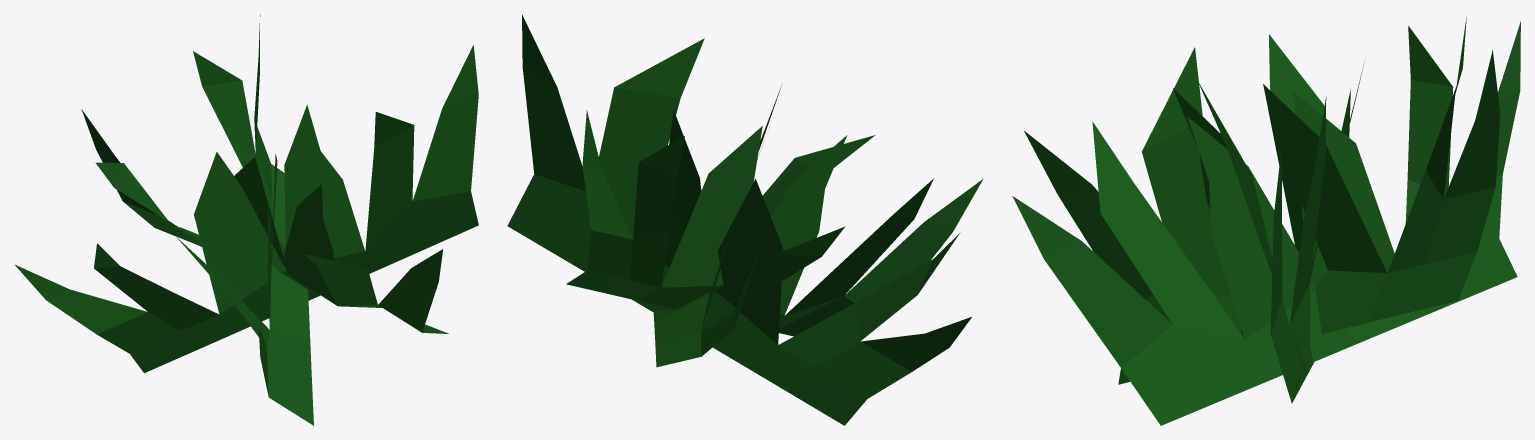
Rendered from grass.fbx.
3 views of the same model, side by side, from view 1: azimuth 30°, elevation 25°; view 2: azimuth 150°, elevation 25°; view 3: azimuth 270°, elevation 25° (orthographic). The views are drawn at different scales.
Parts seen in each view (by area): view 1: Retopo_Landscape.011|Plane.002|Dupli|2003.2; view 2: Retopo_Landscape.011|Plane.002|Dupli|2003.2; view 3: Retopo_Landscape.011|Plane.002|Dupli|2003.2.
Boxes of the visible parts, box(x1,y1,x2,y2) form: Retopo_Landscape.011|Plane.002|Dupli|2003.2: box(14, 14, 478, 425); Retopo_Landscape.011|Plane.002|Dupli|2003.2: box(507, 14, 982, 425); Retopo_Landscape.011|Plane.002|Dupli|2003.2: box(1012, 14, 1520, 425).
Bounding box in the file's own units: 310 × 196 × 231.
